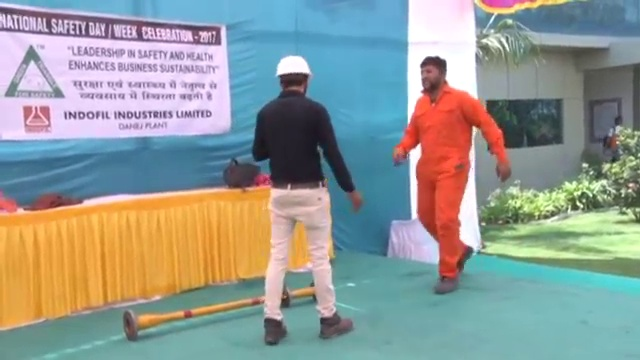helmet: (274, 53, 313, 80)
helmet_off: (418, 56, 446, 92)
helmet_on: (273, 53, 314, 98)
person: (252, 51, 363, 337), (395, 55, 511, 293)
